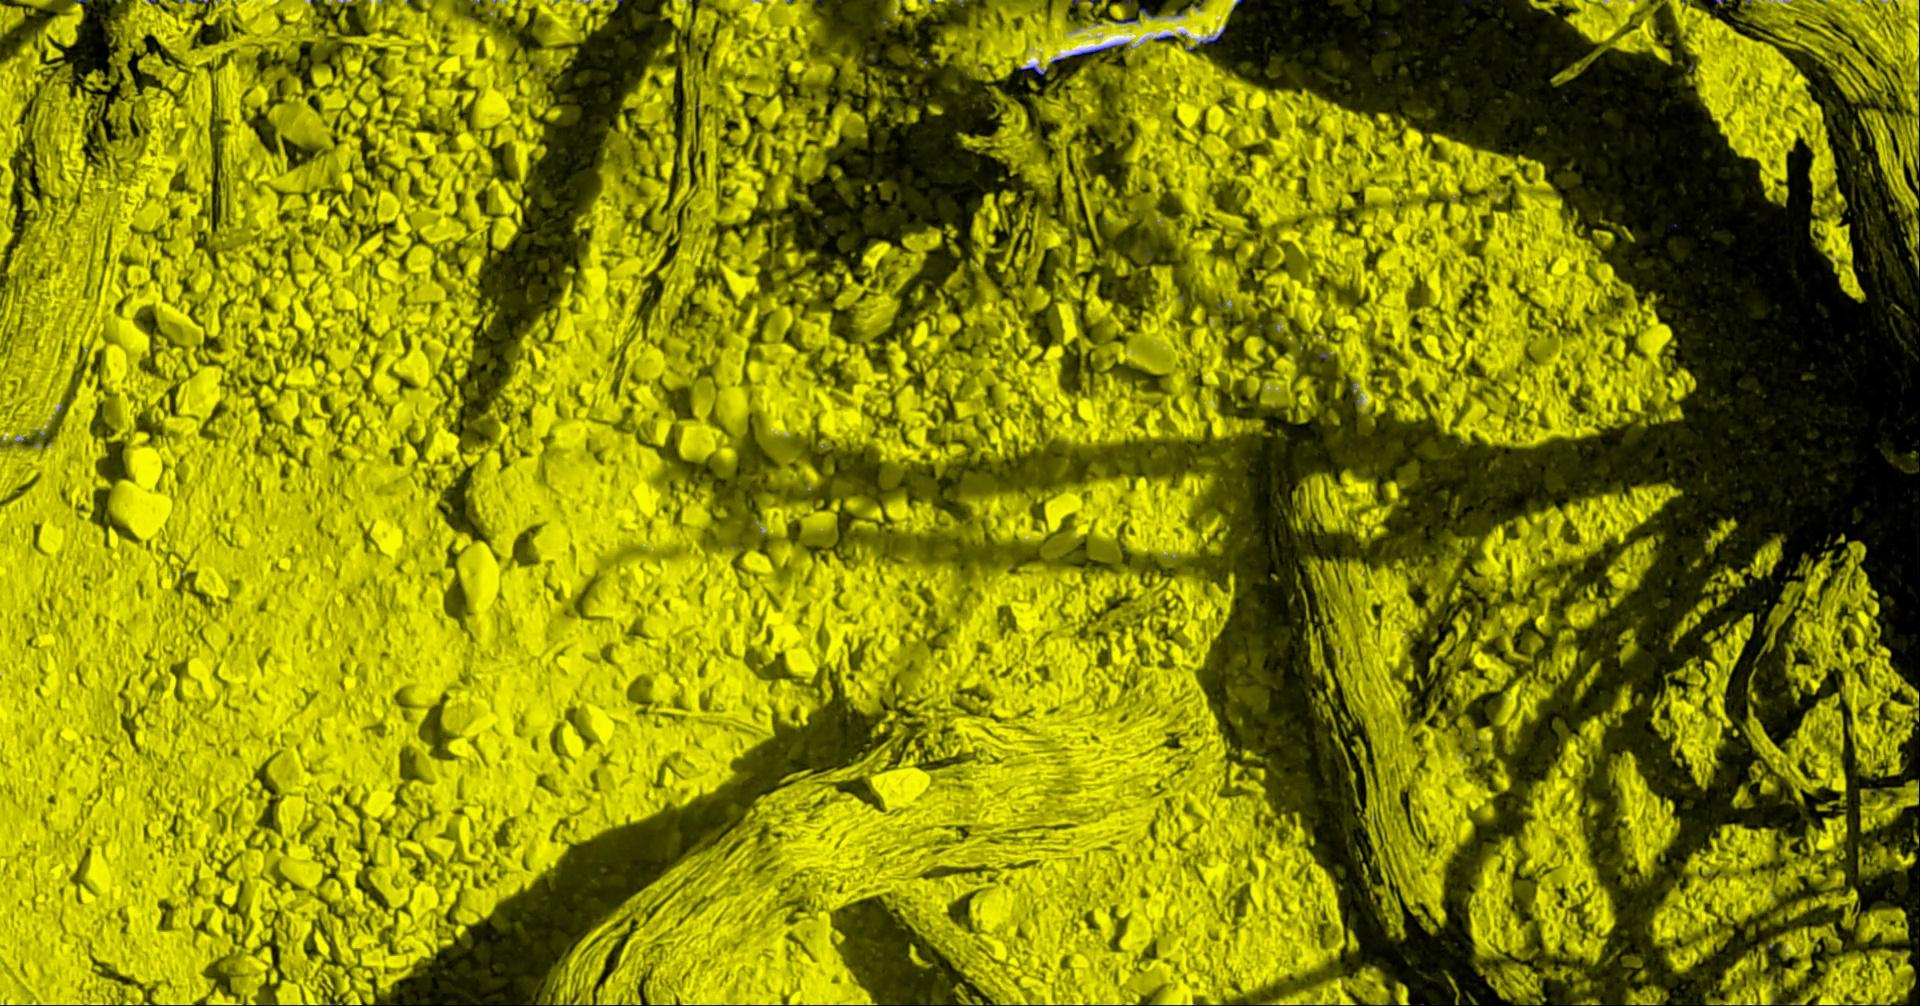ant: (1072, 43, 1124, 55)
